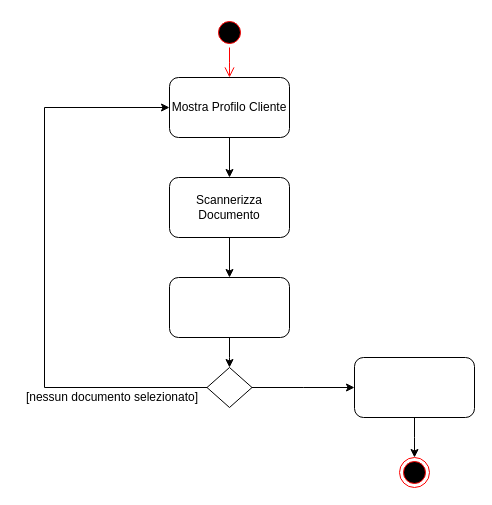
The diagram is 492 pixels wide and 505 high, and some of its shapes have lost their labels. Each missing label, with the box of its shape:
Memorizza documento: (354, 356, 474, 418)
Seleziona documento: (168, 276, 290, 338)
